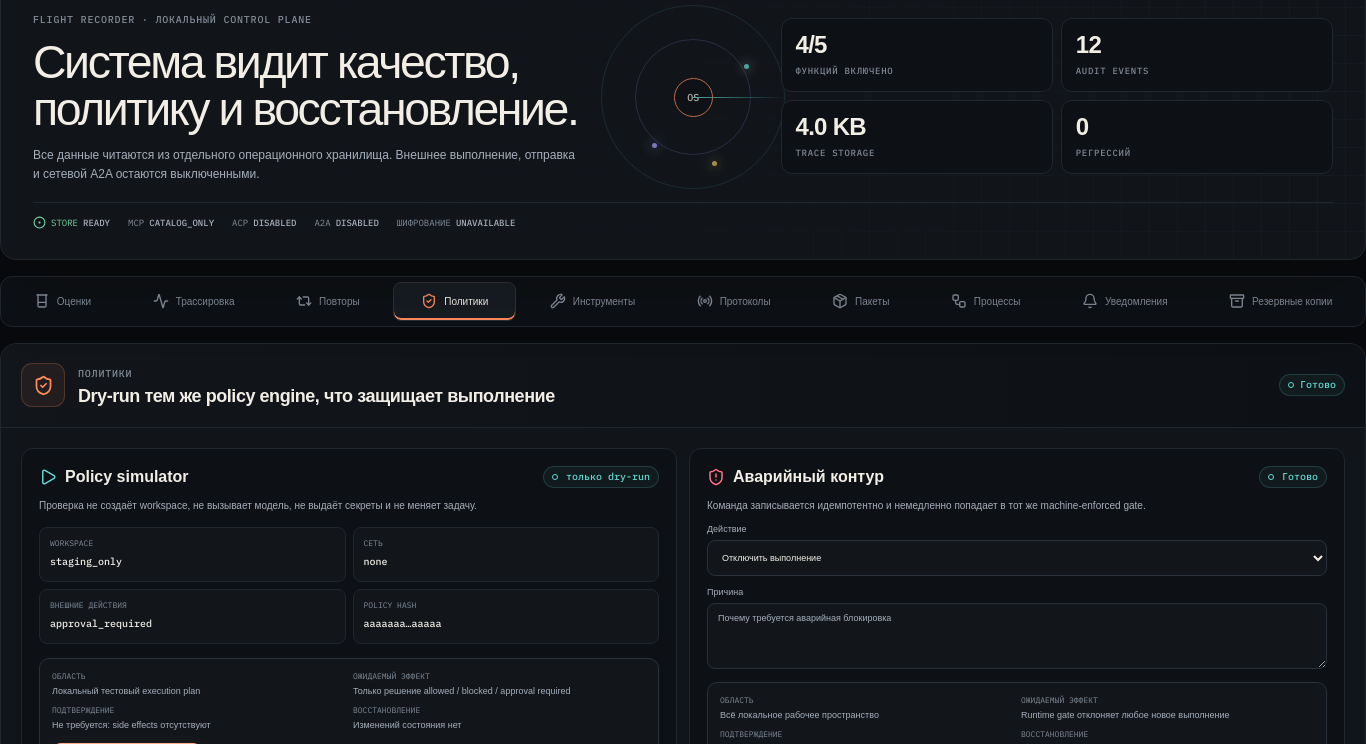
Systems control plane › requires explicit scope acknowledgement before an emergency command
Type "Подтверждённый инцидент" into the text box with placeholder "Почему требуется аварийная блокировка" at [1017, 636], box [707,603,1327,669]
(page scrolled)
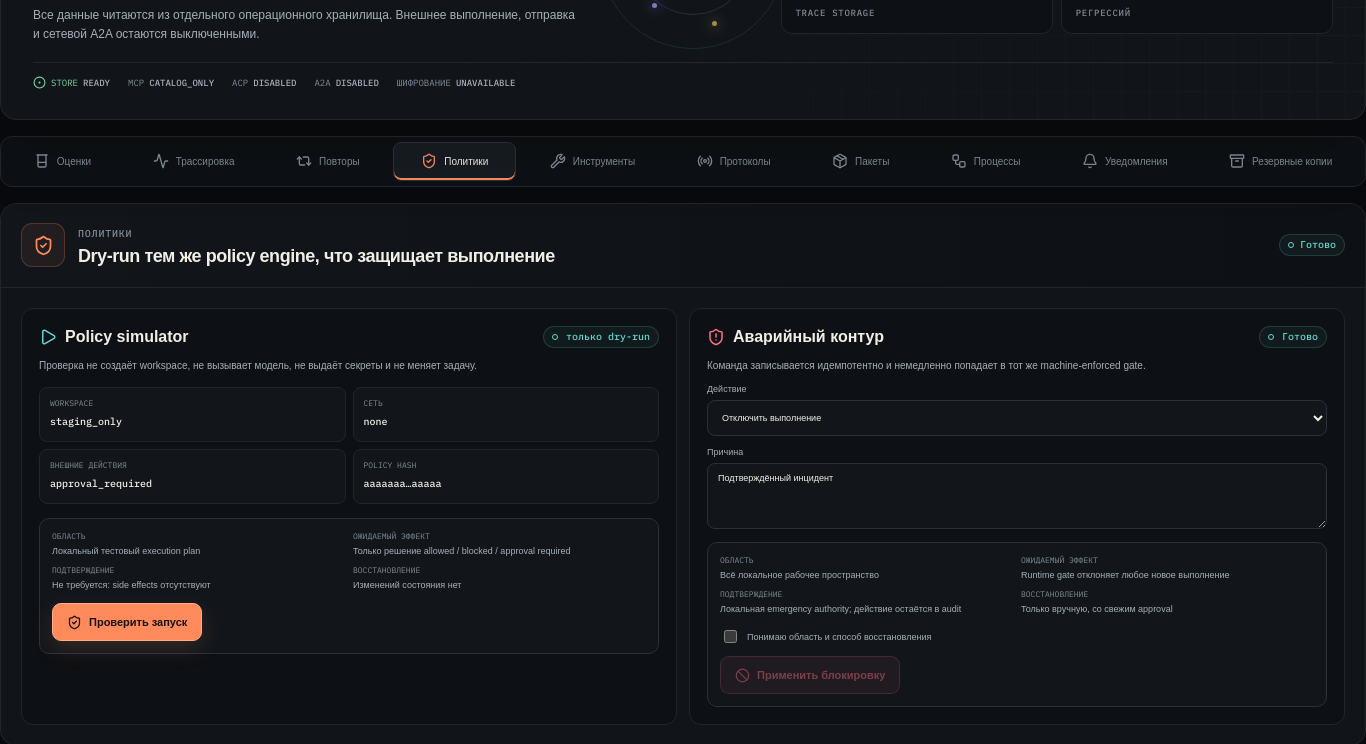
Expected: the button "Применить блокировку" is disabled, [720,656,900,694]
Click the checkbox labelled "Понимаю область и способ восстановления" at [730, 637], box [724,630,737,643]
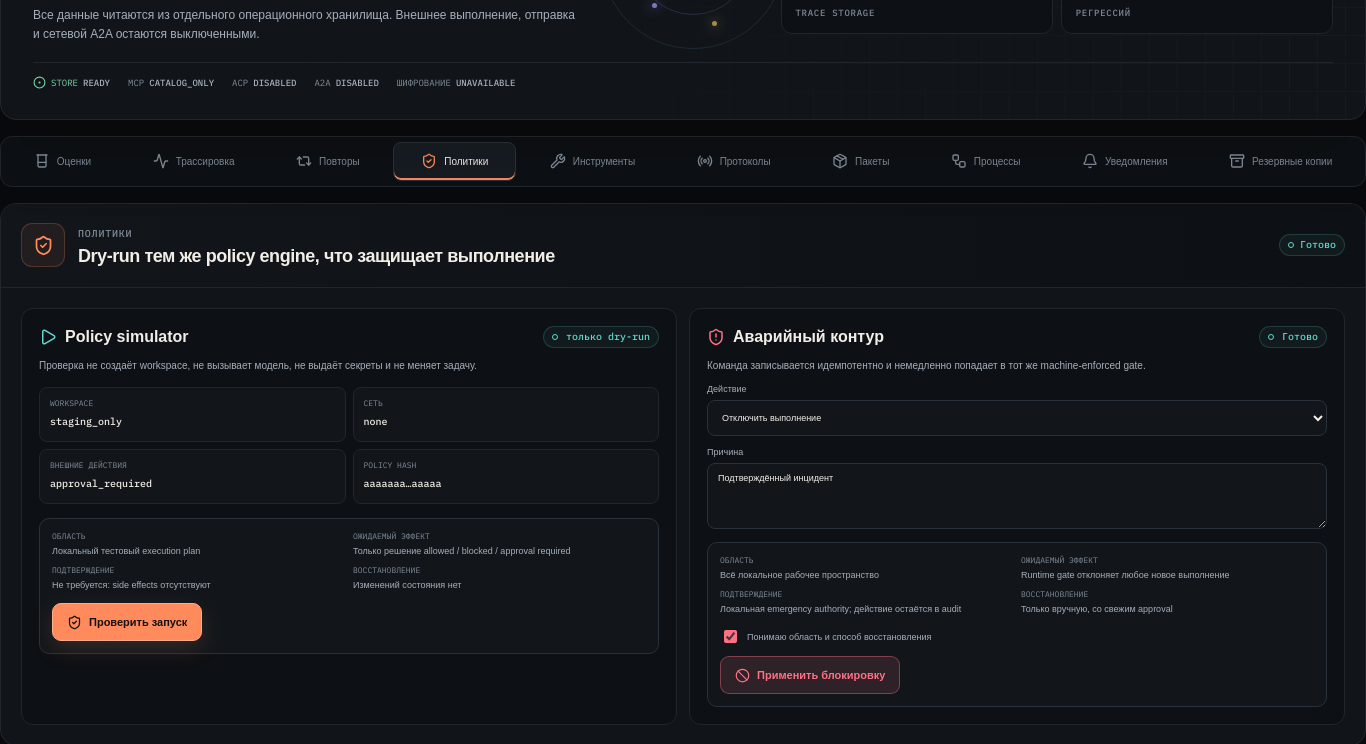
Expected: the button "Применить блокировку" is enabled, [720,656,900,694]
